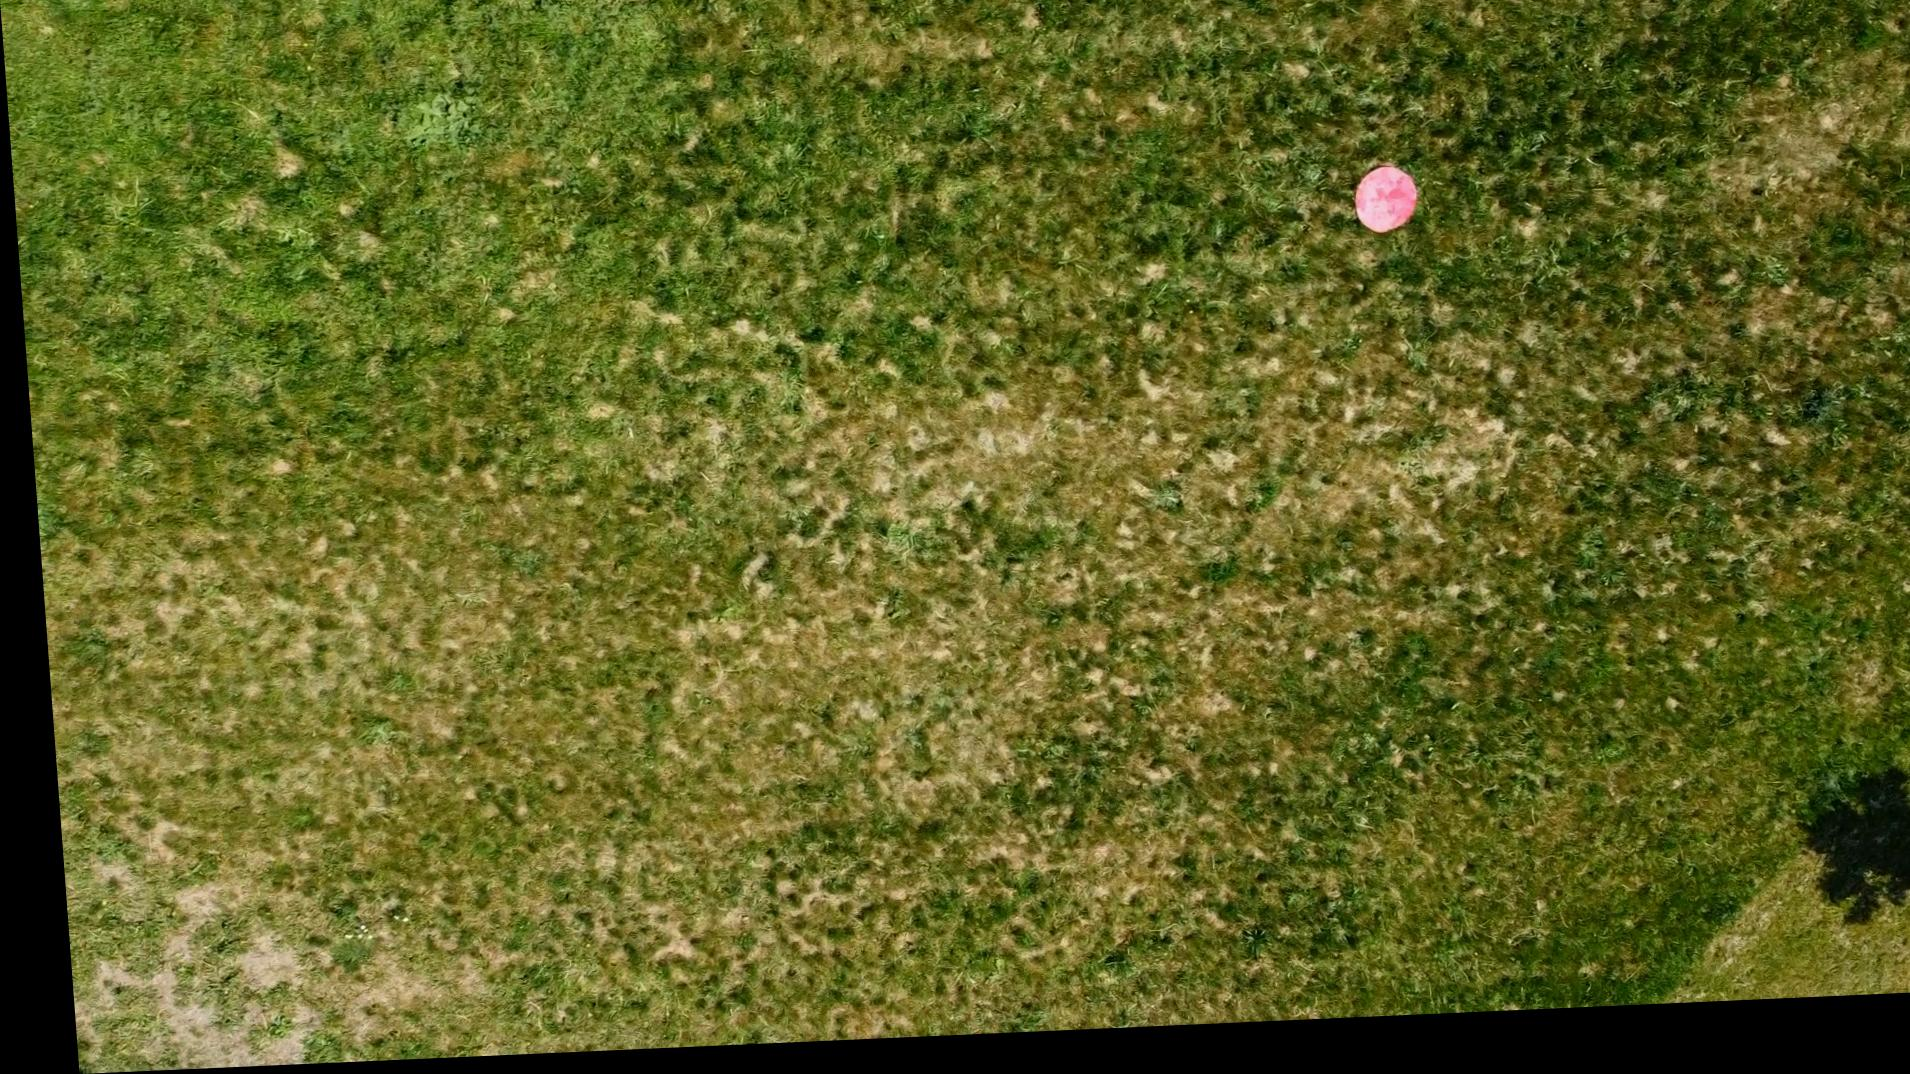Red: (1346, 172, 1422, 252)
